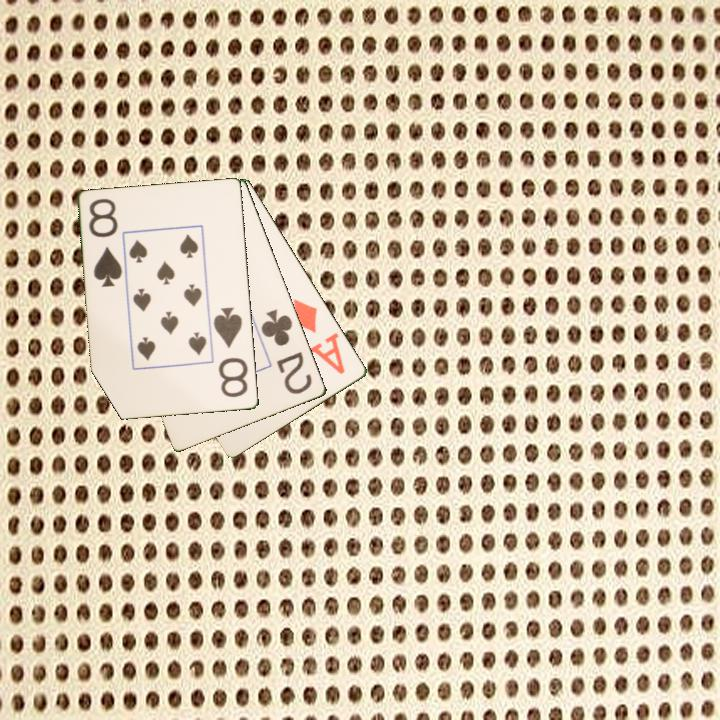2c: (258, 306, 315, 397)
8s: (210, 304, 251, 400), (86, 195, 125, 291)
Ad: (289, 295, 348, 377)
